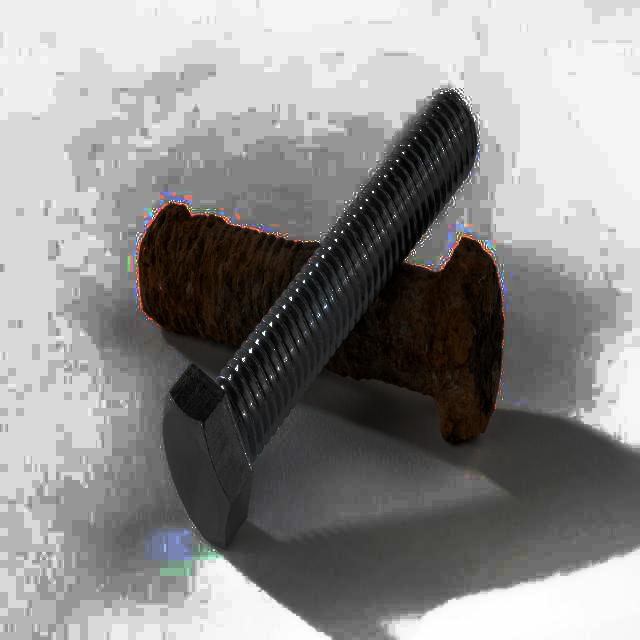Corrosion: (323, 235, 506, 447), (138, 204, 320, 349)
